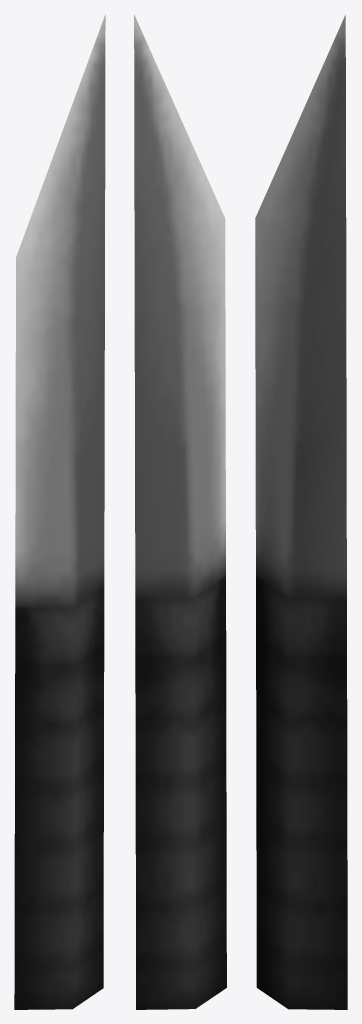
Rendered from Knife.fbx.
The picture shows the model from 3 angles, left to right: view 1: azimuth 30°, elevation 25°; view 2: azimuth 210°, elevation 25°; view 3: azimuth 330°, elevation 25°; orthographic projection. The views are drawn at different scales.
Parts seen in each view (by area): view 1: Mesh_0851.rip.002_Mesh_0851.rip.003; view 2: Mesh_0851.rip.002_Mesh_0851.rip.003; view 3: Mesh_0851.rip.002_Mesh_0851.rip.003.
Boxes of the visible parts, x1,y1,x2,y2 form: Mesh_0851.rip.002_Mesh_0851.rip.003: [14, 14, 105, 1009]; Mesh_0851.rip.002_Mesh_0851.rip.003: [134, 14, 226, 1009]; Mesh_0851.rip.002_Mesh_0851.rip.003: [255, 15, 347, 1009].
Bounding box in the file's own units: 3.7 × 38.74 × 2.04.
Materials: 1 (1 with a texture image).
